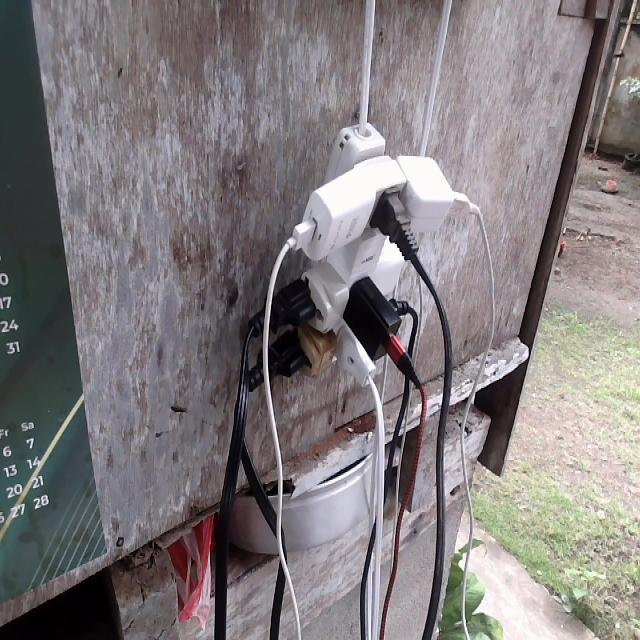-: (230, 117, 484, 408)
